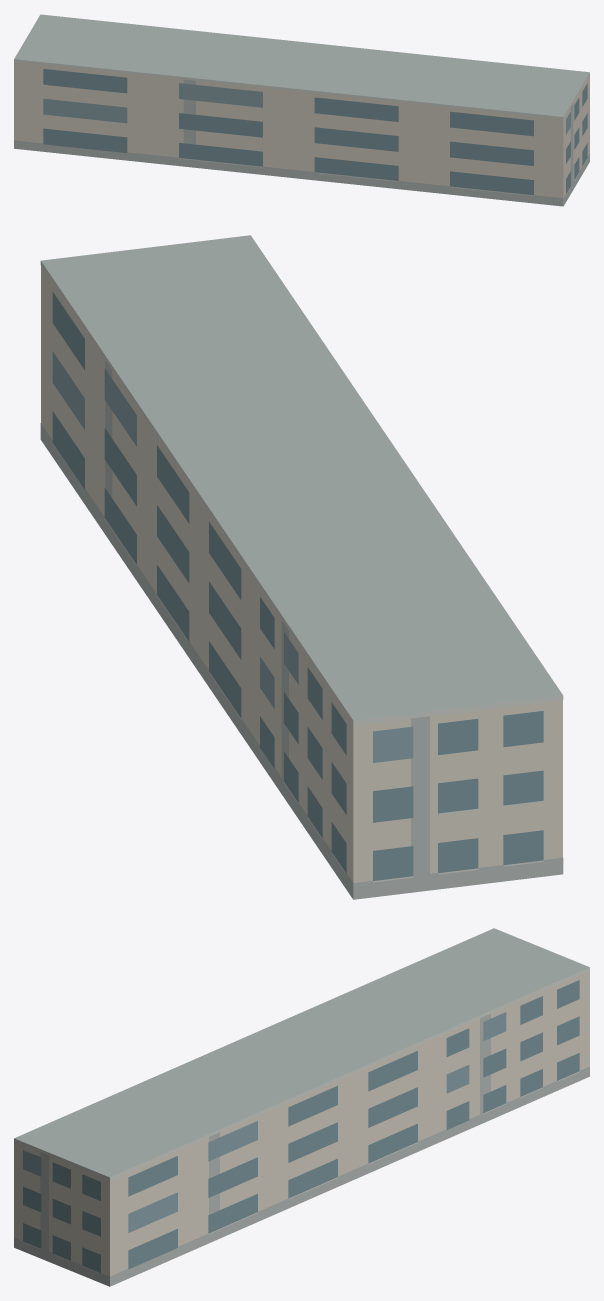
The model's file is residential-525741bc-3718-42c1-b129-2fbd25a745b2.glb.
3 views of the same model, one above another, from view 1: azimuth 30°, elevation 25°; view 2: azimuth 150°, elevation 25°; view 3: azimuth 270°, elevation 25° (orthographic). The views are drawn at different scales.
Parts seen in each view (by area): view 1: residential-525741bc-3718-42c1-b129-2fbd25a745b2.tmp; view 2: residential-525741bc-3718-42c1-b129-2fbd25a745b2.tmp; view 3: residential-525741bc-3718-42c1-b129-2fbd25a745b2.tmp.
Boxes of the visible parts, x1,y1,x2,y2 form: residential-525741bc-3718-42c1-b129-2fbd25a745b2.tmp: (14,14,589,206); residential-525741bc-3718-42c1-b129-2fbd25a745b2.tmp: (40,235,563,899); residential-525741bc-3718-42c1-b129-2fbd25a745b2.tmp: (14,928,589,1286).
Bounding box in the file's own units: 44.76 × 9.15 × 43.69.
